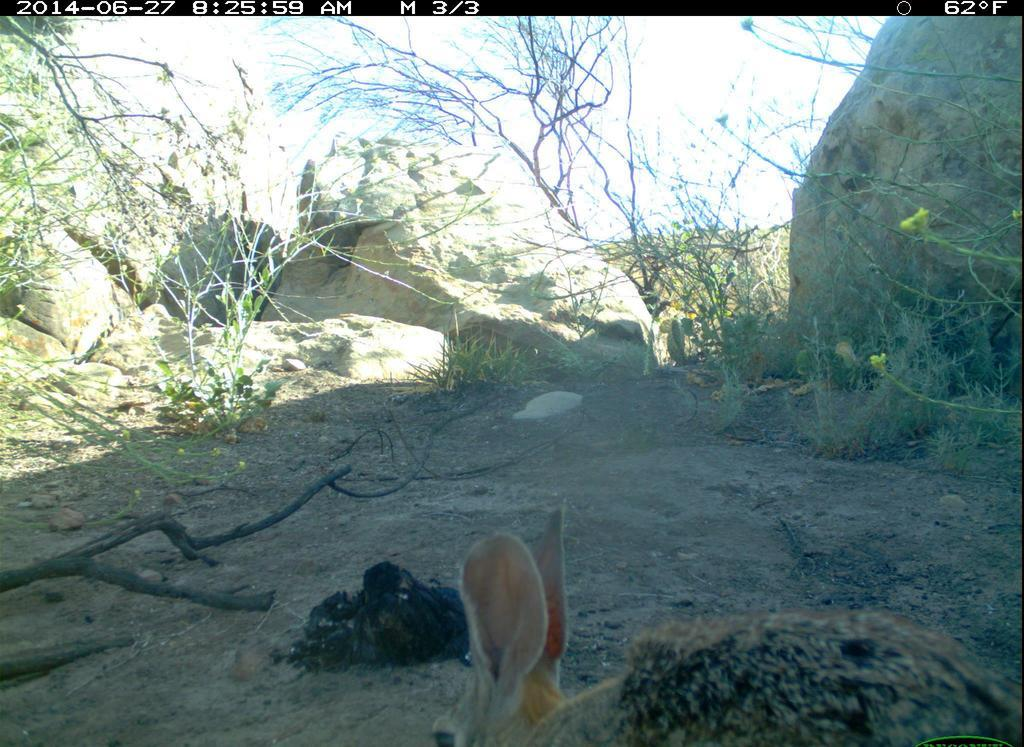rabbit: (417, 506, 1023, 747)
